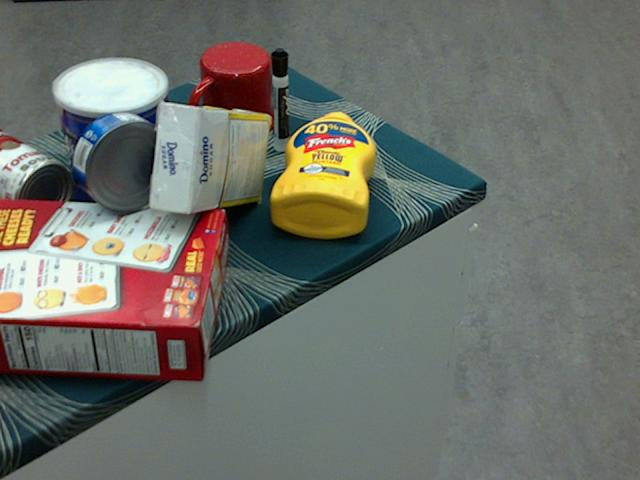cracker_box: (0, 197, 227, 378)
large_marker: (271, 47, 288, 152)
master_chef_can: (54, 59, 174, 237)
mug: (185, 42, 276, 140)
mustard_bottle: (270, 110, 376, 238)
potted_meat_can: (71, 91, 168, 176)
sugar_box: (149, 105, 268, 216)
tomato_soup_can: (0, 125, 72, 223)
tuna_fish_can: (72, 111, 175, 213)
